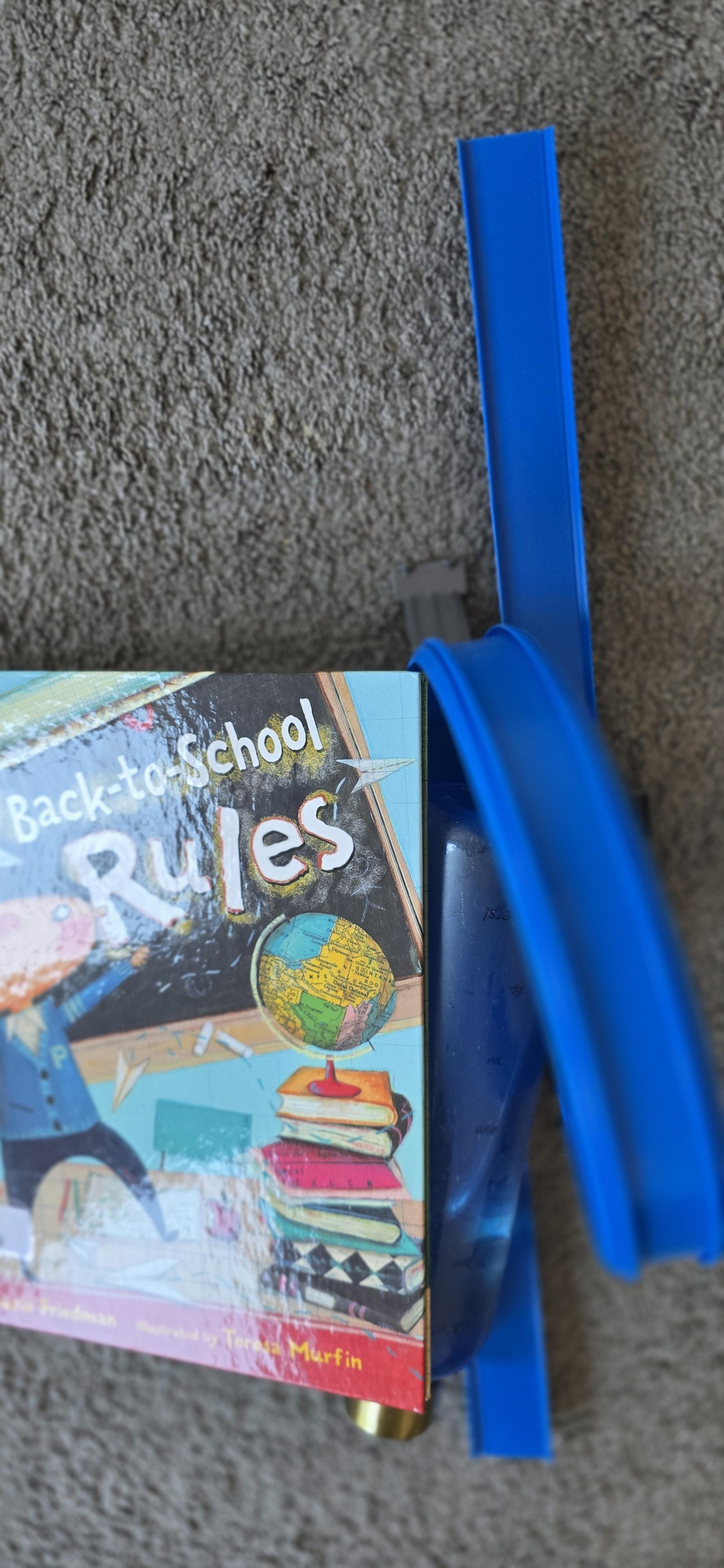bottle: (439, 848, 533, 1376)
